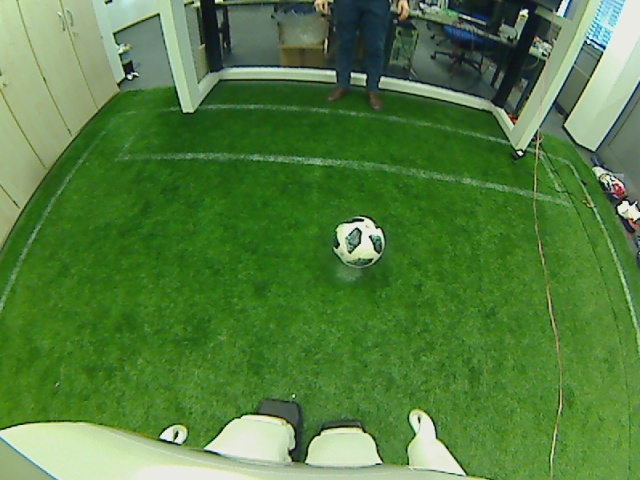ball: (332, 211, 385, 270)
